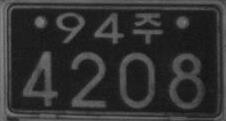0: (119, 51, 155, 109)
2: (70, 50, 107, 108)
4: (22, 50, 58, 106), (94, 11, 124, 44)
8: (167, 52, 205, 111)
9: (55, 11, 86, 43)
주: (133, 11, 163, 45)
